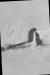D35: (3, 0, 48, 74)
